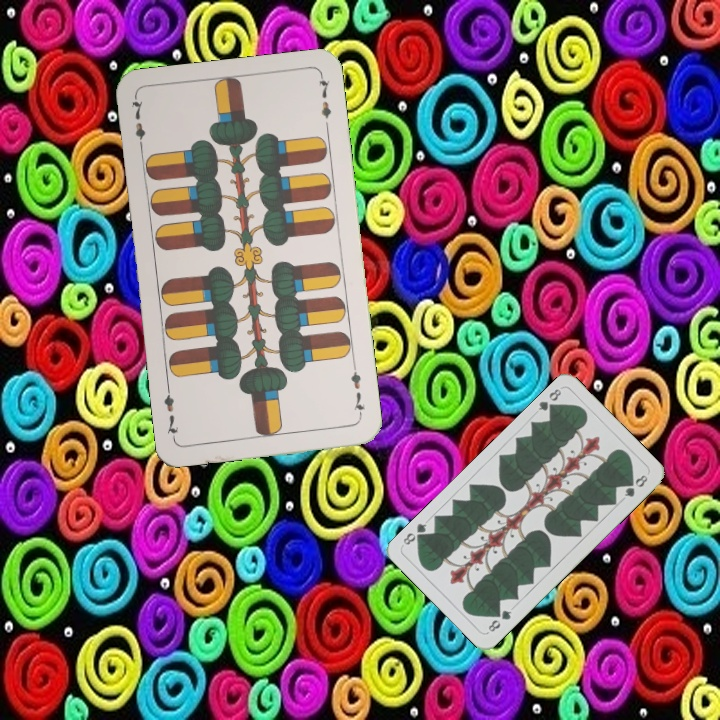E7: (346, 361, 367, 420), (128, 94, 148, 153)
G8: (483, 606, 514, 636), (534, 385, 564, 416)
